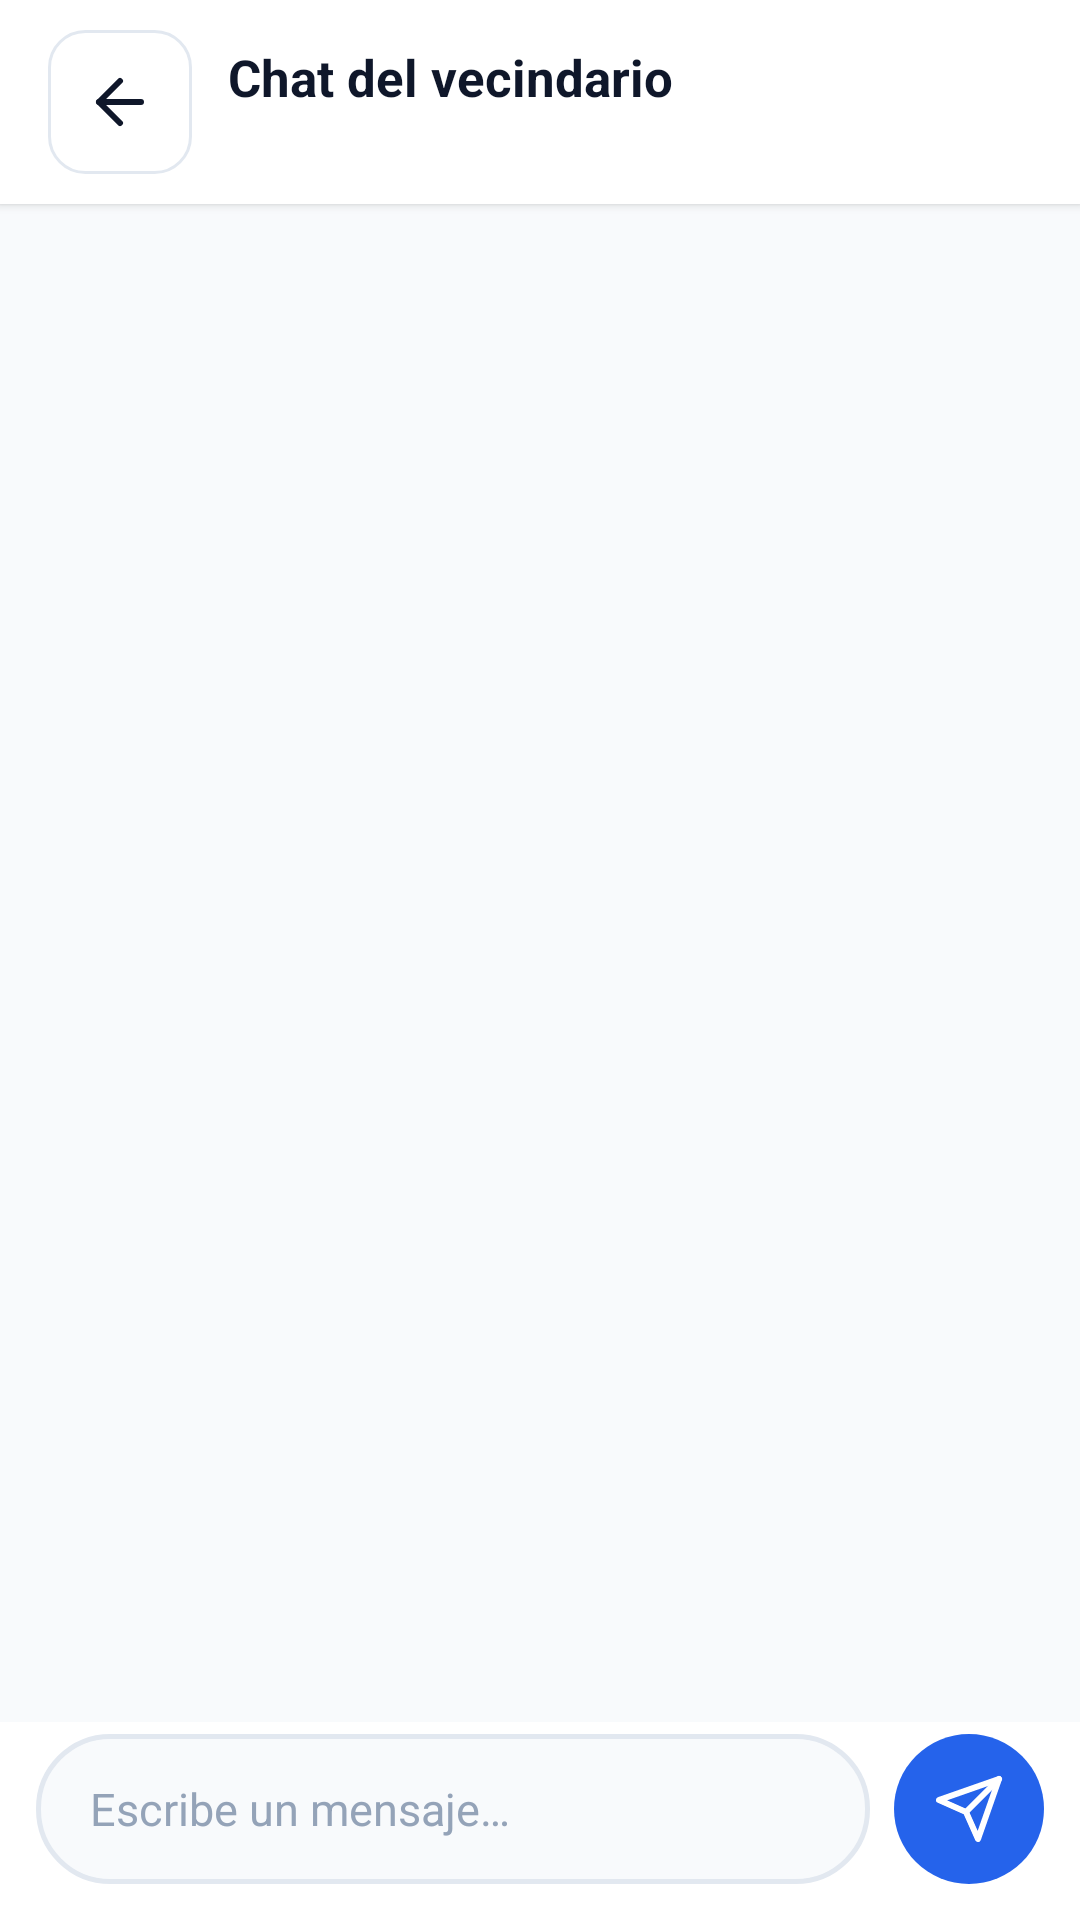

Icon bounding boxes for this 1080×1920 phone screenshot, format (x1, y1, x2, y2):
Enviar: (894, 1734, 1044, 1884)
Volver al mapa: (48, 30, 192, 174)
